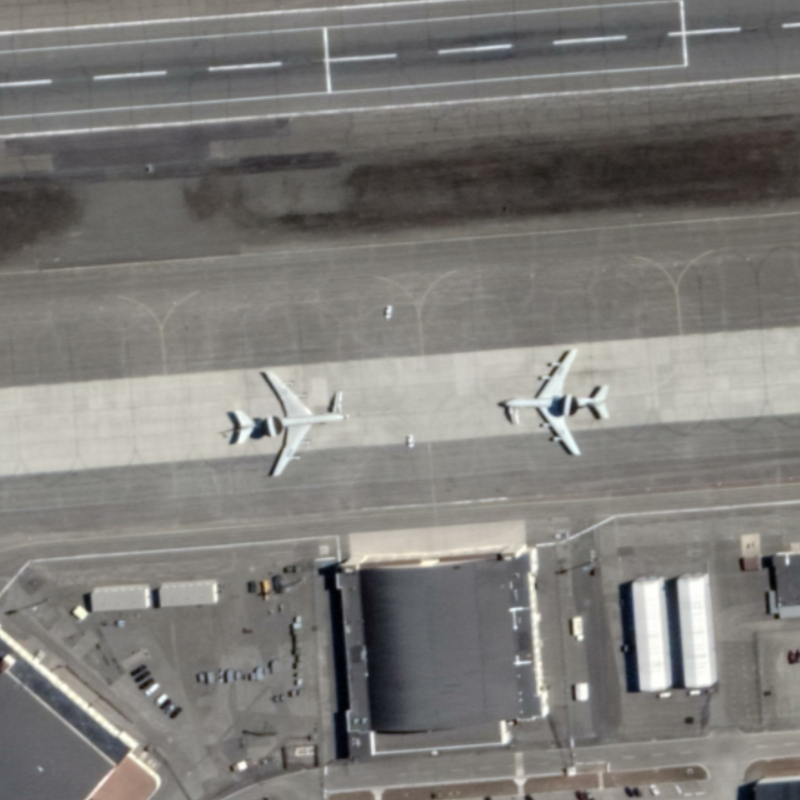A7: (222, 361, 351, 481), (490, 344, 617, 458)
